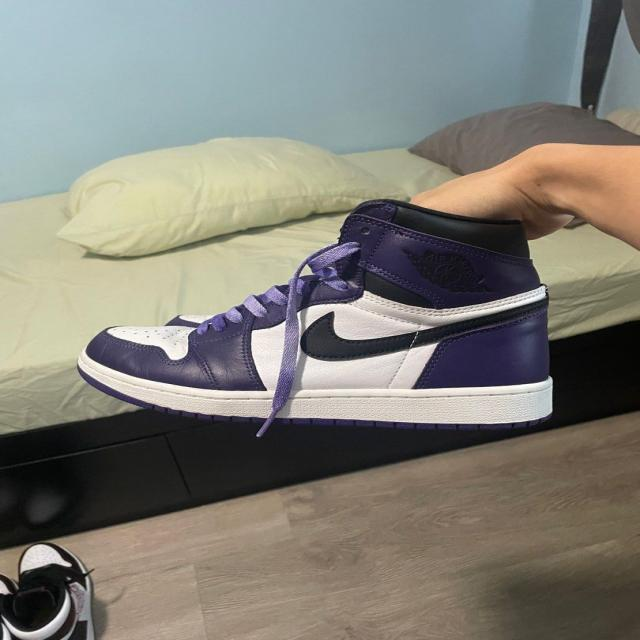nike original jordan 1: (76, 199, 563, 432)
